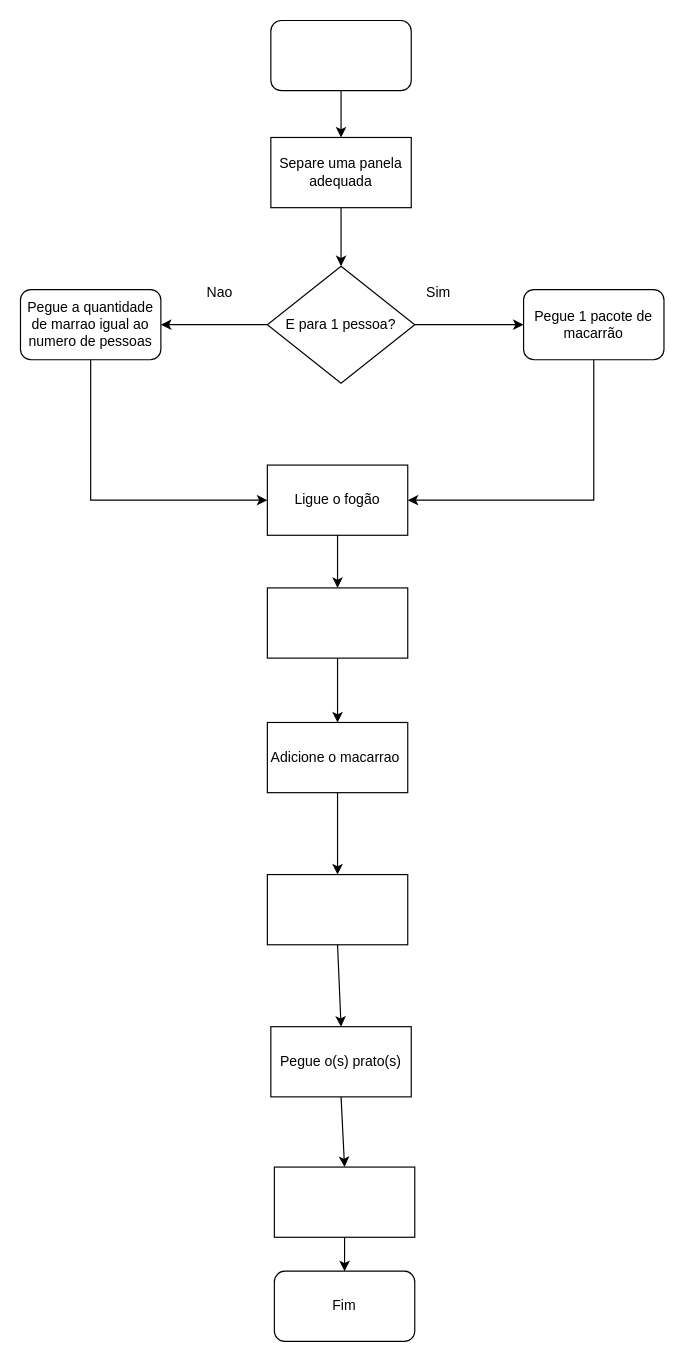
Some shapes in this 684 by 1362 pixel diagram are drawn without their labels. Here are the shapes that lost their labels. From the top down, the box of each, then its label:
(270, 19, 411, 91): Inicio
(266, 587, 408, 658): Coloque a agua na panela para ferver
(266, 873, 408, 945): Aguarde 3 minutos, desligue o fogão
(273, 1166, 415, 1237): Adicione o macarrao ao prato(s)
